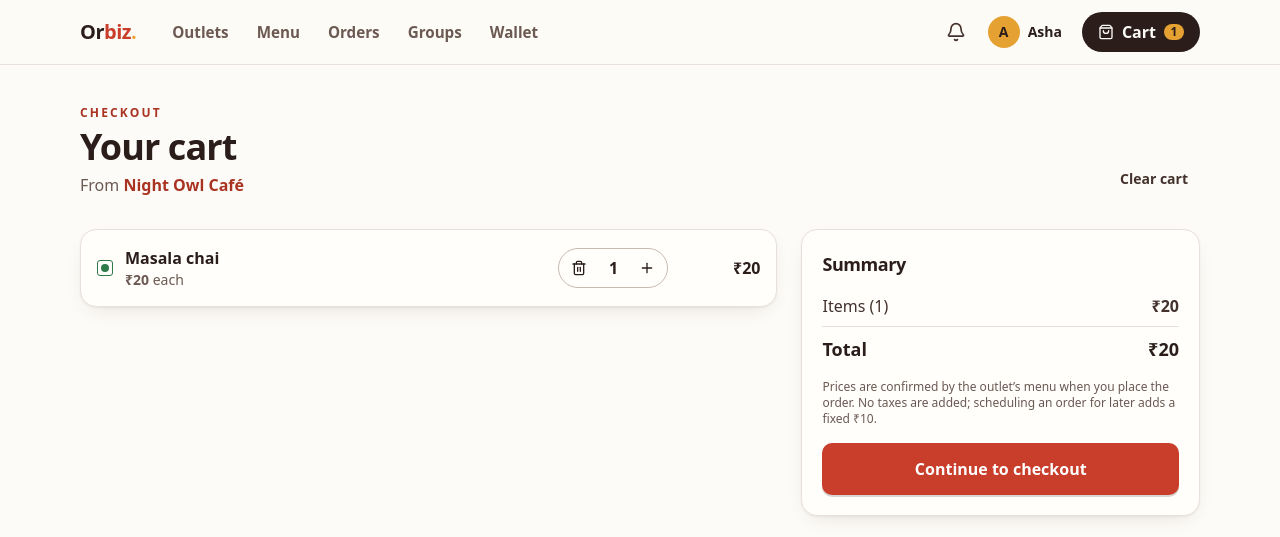
<CartPage /> › removes an item through the API
Click the button named "Remove Masala chai".
click(580, 268)  # box 562,250 -> 598,286
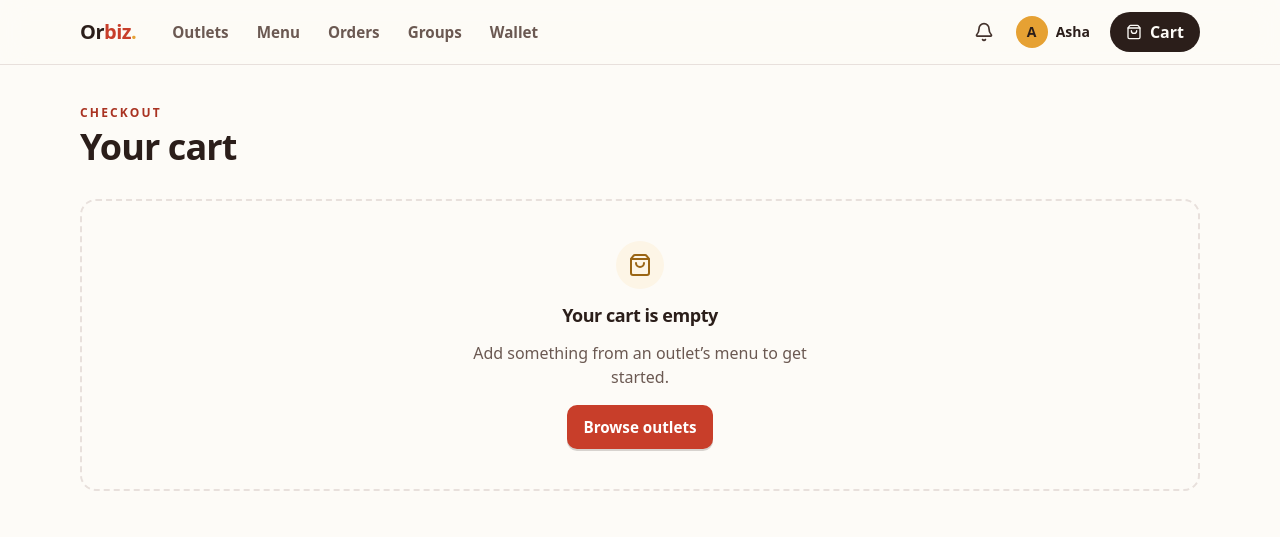
Expected: the heading "Your cart is empty" is shown, 562,301 -> 718,329
